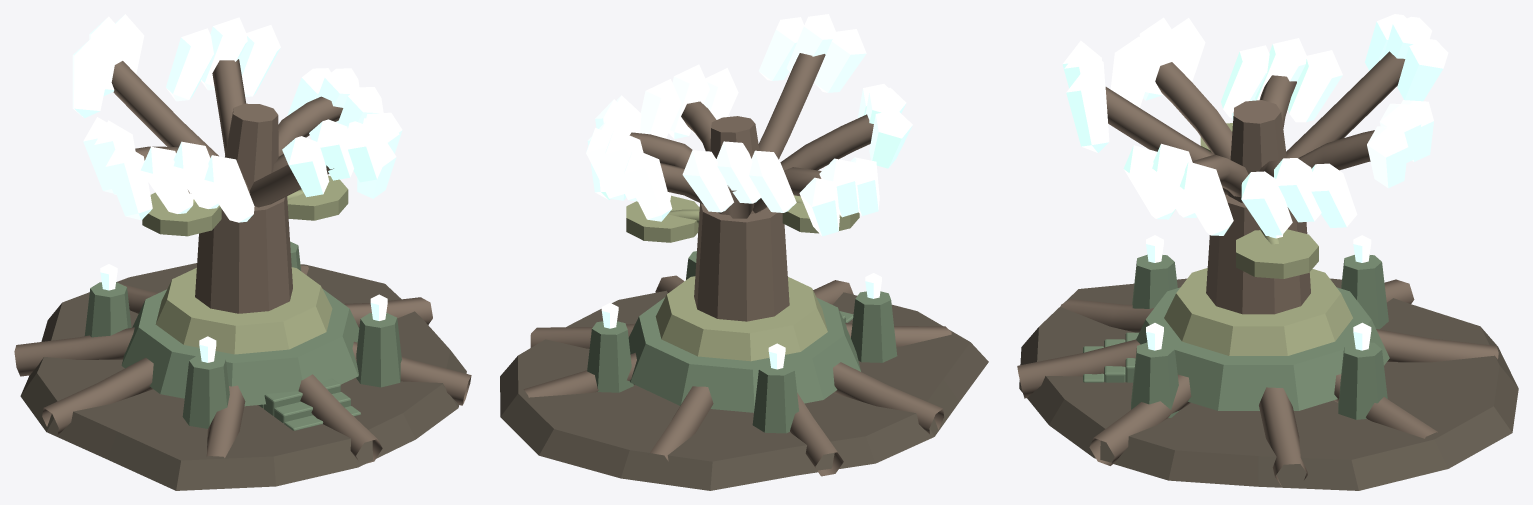
Rendered from ancient-jungle-lod0.glb.
The picture shows the model from 3 angles, left to right: view 1: azimuth 30°, elevation 25°; view 2: azimuth 150°, elevation 25°; view 3: azimuth 270°, elevation 25°; orthographic projection. The views are drawn at different scales.
Parts seen in each view (by area): view 1: STONE_TERRAIN_SOCKET, STONE_TEMPLE_TERRACE_LOWER, ORGANIC_TRUNK_LOWER, TRIM_TEMPLE_TERRACE_UPPER, ORGANIC_TRUNK_UPPER, FX_FOLIAGE_BRANCH_2, STONE_ROOT_SHRINE_3, ORGANIC_BUTTRESS_ROOT_4, ORGANIC_BUTTRESS_ROOT_3, STONE_ROOT_SHRINE_2, ORGANIC_BUTTRESS_ROOT_6, FX_FOLIAGE_BLADE_2_2 (+30 smaller); view 2: STONE_TERRAIN_SOCKET, STONE_TEMPLE_TERRACE_LOWER, ORGANIC_TRUNK_LOWER, TRIM_TEMPLE_TERRACE_UPPER, ORGANIC_BUTTRESS_ROOT_4, FX_FOLIAGE_BRANCH_5, STONE_ROOT_SHRINE_2, STONE_ROOT_SHRINE_1, STONE_ROOT_SHRINE_0, FX_FOLIAGE_BRANCH_4, FX_FOLIAGE_BLADE_1_2, STONE_CANOPY_PLATFORM_0 (+29 smaller); view 3: STONE_TERRAIN_SOCKET, STONE_TEMPLE_TERRACE_LOWER, TRIM_TEMPLE_TERRACE_UPPER, ORGANIC_TRUNK_LOWER, FX_FOLIAGE_BRANCH_2, ORGANIC_TRUNK_UPPER, STONE_CANOPY_PLATFORM_0, FX_FOLIAGE_BRANCH_4, STONE_ROOT_SHRINE_0, FX_FOLIAGE_BRANCH_5, ORGANIC_BUTTRESS_ROOT_6, STONE_ROOT_SHRINE_3 (+31 smaller).
Part boxes in pixels (bbox=[...]): STONE_TERRAIN_SOCKET: bbox=[20, 263, 466, 490]; STONE_TEMPLE_TERRACE_LOWER: bbox=[121, 289, 359, 406]; ORGANIC_TRUNK_LOWER: bbox=[195, 196, 292, 313]; TRIM_TEMPLE_TERRACE_UPPER: bbox=[155, 267, 332, 354]; ORGANIC_TRUNK_UPPER: bbox=[225, 103, 278, 190]; FX_FOLIAGE_BRANCH_2: bbox=[111, 61, 218, 157]; STONE_ROOT_SHRINE_3: bbox=[356, 313, 401, 387]; ORGANIC_BUTTRESS_ROOT_4: bbox=[42, 357, 153, 435]; ORGANIC_BUTTRESS_ROOT_3: bbox=[14, 327, 134, 376]; STONE_ROOT_SHRINE_2: bbox=[182, 354, 229, 428]; ORGANIC_BUTTRESS_ROOT_6: bbox=[298, 374, 382, 463]; FX_FOLIAGE_BLADE_2_2: bbox=[72, 37, 110, 118]; STONE_TERRAIN_SOCKET: bbox=[500, 290, 988, 490]; STONE_TEMPLE_TERRACE_LOWER: bbox=[628, 297, 860, 412]; ORGANIC_TRUNK_LOWER: bbox=[694, 203, 789, 321]; TRIM_TEMPLE_TERRACE_UPPER: bbox=[655, 276, 827, 361]; ORGANIC_BUTTRESS_ROOT_4: bbox=[833, 362, 943, 434]; FX_FOLIAGE_BRANCH_5: bbox=[758, 53, 825, 159]; STONE_ROOT_SHRINE_2: bbox=[851, 291, 897, 362]; STONE_ROOT_SHRINE_1: bbox=[752, 362, 798, 433]; STONE_ROOT_SHRINE_0: bbox=[587, 321, 633, 392]; FX_FOLIAGE_BRANCH_4: bbox=[780, 114, 873, 170]; FX_FOLIAGE_BLADE_1_2: bbox=[624, 149, 672, 221]; STONE_CANOPY_PLATFORM_0: bbox=[626, 195, 699, 242]; STONE_TERRAIN_SOCKET: bbox=[1019, 278, 1518, 490]; STONE_TEMPLE_TERRACE_LOWER: bbox=[1136, 287, 1389, 410]; TRIM_TEMPLE_TERRACE_UPPER: bbox=[1164, 268, 1352, 355]; ORGANIC_TRUNK_LOWER: bbox=[1206, 194, 1310, 314]; FX_FOLIAGE_BRANCH_2: bbox=[1286, 51, 1405, 158]; ORGANIC_TRUNK_UPPER: bbox=[1228, 100, 1286, 203]; STONE_CANOPY_PLATFORM_0: bbox=[1236, 229, 1318, 278]; FX_FOLIAGE_BRANCH_4: bbox=[1155, 62, 1232, 159]; STONE_ROOT_SHRINE_0: bbox=[1338, 342, 1387, 419]; FX_FOLIAGE_BRANCH_5: bbox=[1105, 87, 1228, 194]; ORGANIC_BUTTRESS_ROOT_6: bbox=[1017, 339, 1140, 398]; STONE_ROOT_SHRINE_3: bbox=[1131, 342, 1179, 417].
Size of the model in its own units: 1.58 by 1.23 by 1.64.
